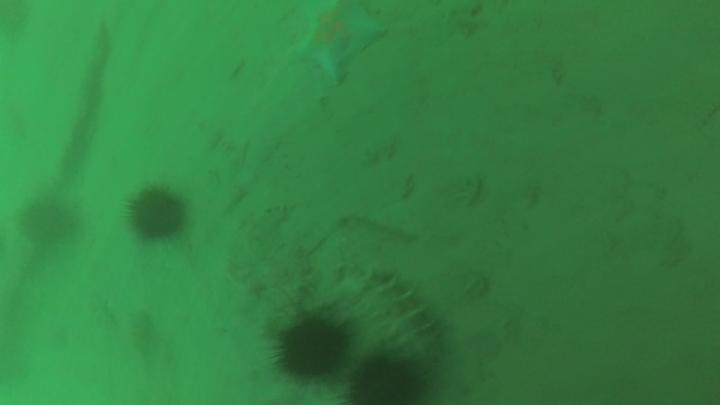echinus: (280, 323, 343, 378), (351, 357, 421, 405), (129, 191, 186, 236)
holothurian: (341, 272, 447, 365)
starfish: (296, 2, 387, 85)
